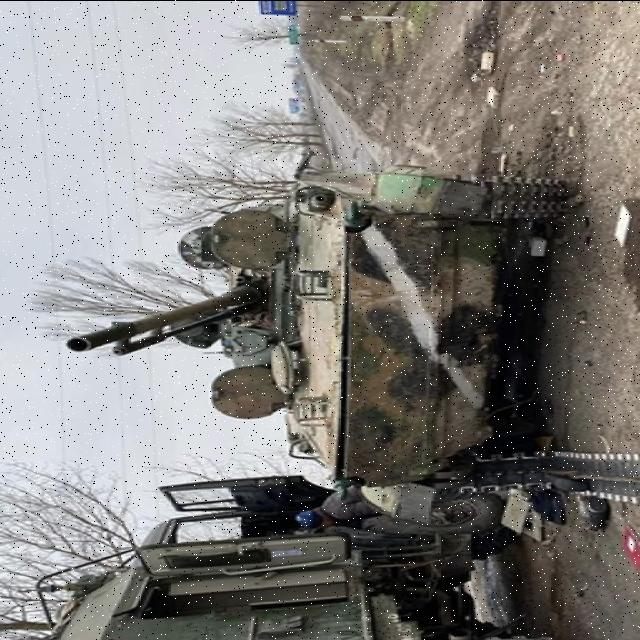APC-IFV: (51, 162, 573, 486)
TRUCK: (56, 476, 544, 640)
